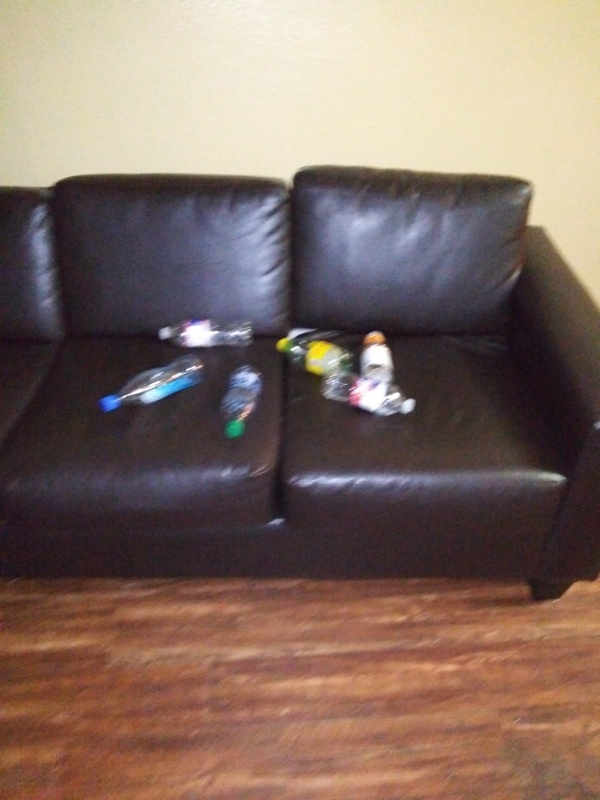bottle: (90, 349, 211, 419), (320, 368, 426, 423), (217, 360, 272, 444), (151, 313, 258, 354), (269, 330, 357, 378), (356, 324, 399, 384)
